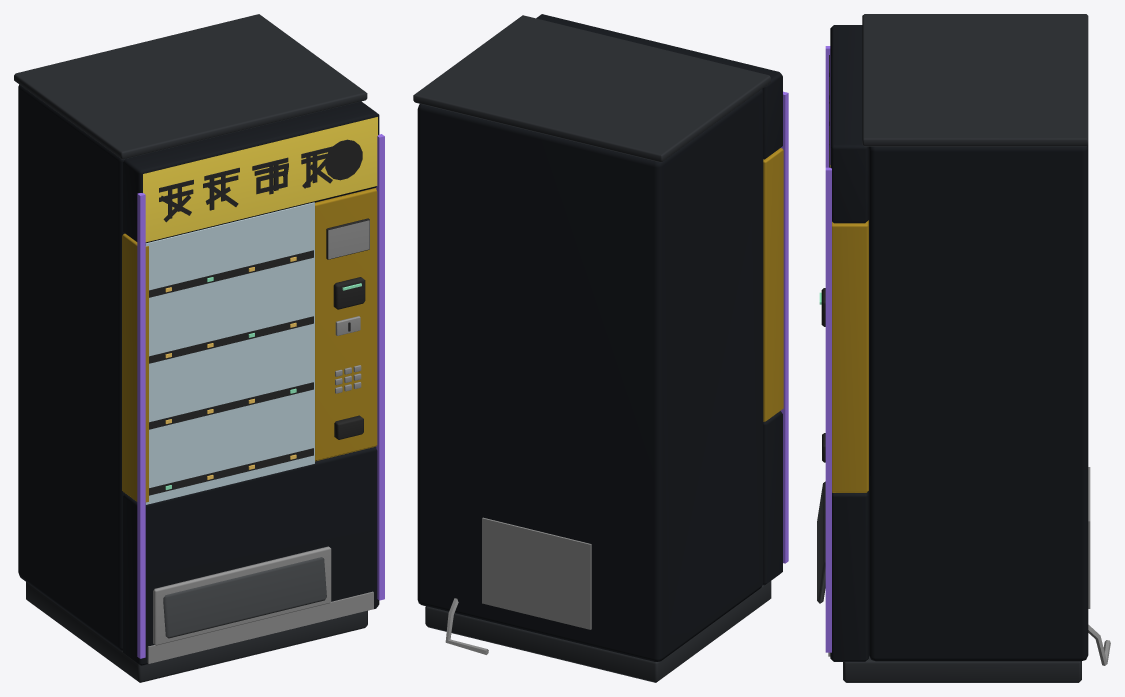
Rendered from Vending_Machine_Food.fbx.
The picture shows the model from 3 angles, left to right: view 1: azimuth 30°, elevation 25°; view 2: azimuth 150°, elevation 25°; view 3: azimuth 270°, elevation 25°; orthographic projection. The views are drawn at different scales.
Parts seen in each view (by area): view 1: Vending_Machine_Food_LOD0; view 2: Vending_Machine_Food_LOD0; view 3: Vending_Machine_Food_LOD0.
Part boxes in pixels (box(x1,y1,x2,y2)): Vending_Machine_Food_LOD0: box(14, 14, 384, 682); Vending_Machine_Food_LOD0: box(413, 14, 788, 682); Vending_Machine_Food_LOD0: box(817, 14, 1110, 682).
Size of what is drawn, in the model's own units: 0.92 by 1.88 by 0.9105.
